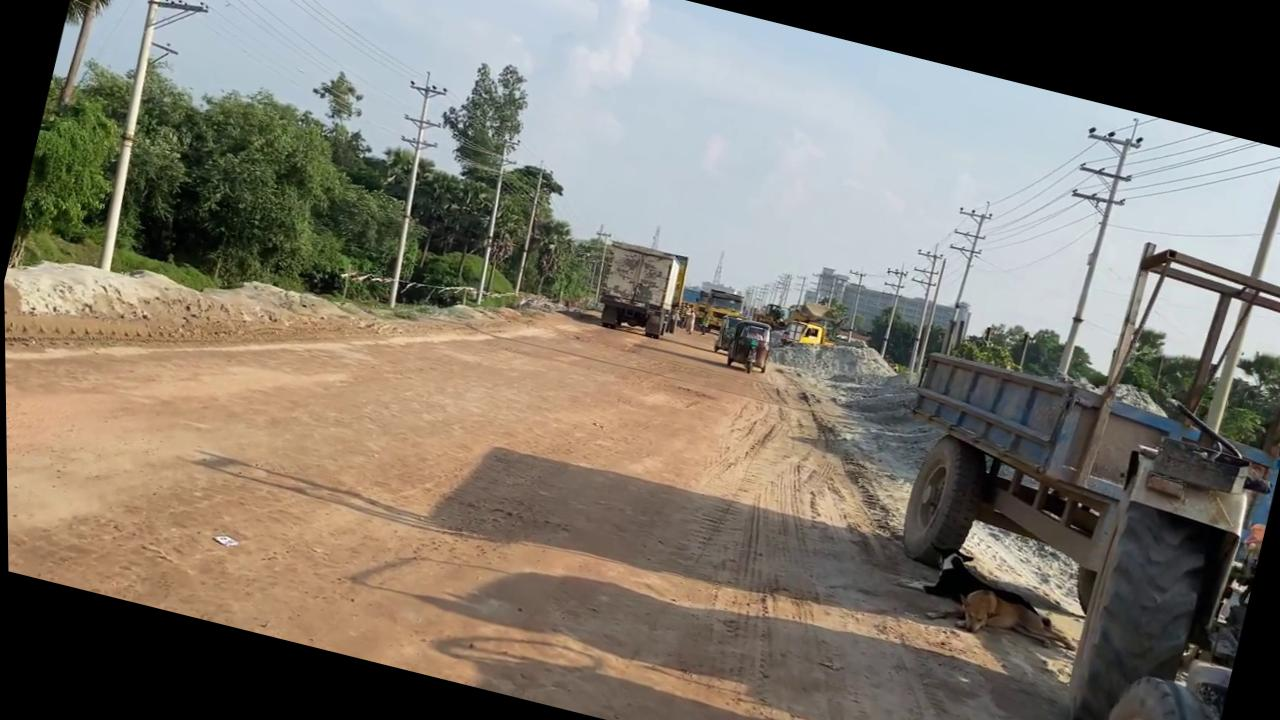Pole: (79, 0, 197, 271), (1196, 145, 1280, 440), (464, 141, 520, 305), (507, 160, 551, 296)
Traffic-sign: (44, 0, 181, 124)
Tree: (811, 193, 1280, 720), (588, 236, 691, 344), (687, 282, 747, 342), (777, 314, 835, 357), (750, 298, 789, 330), (796, 318, 829, 349)
